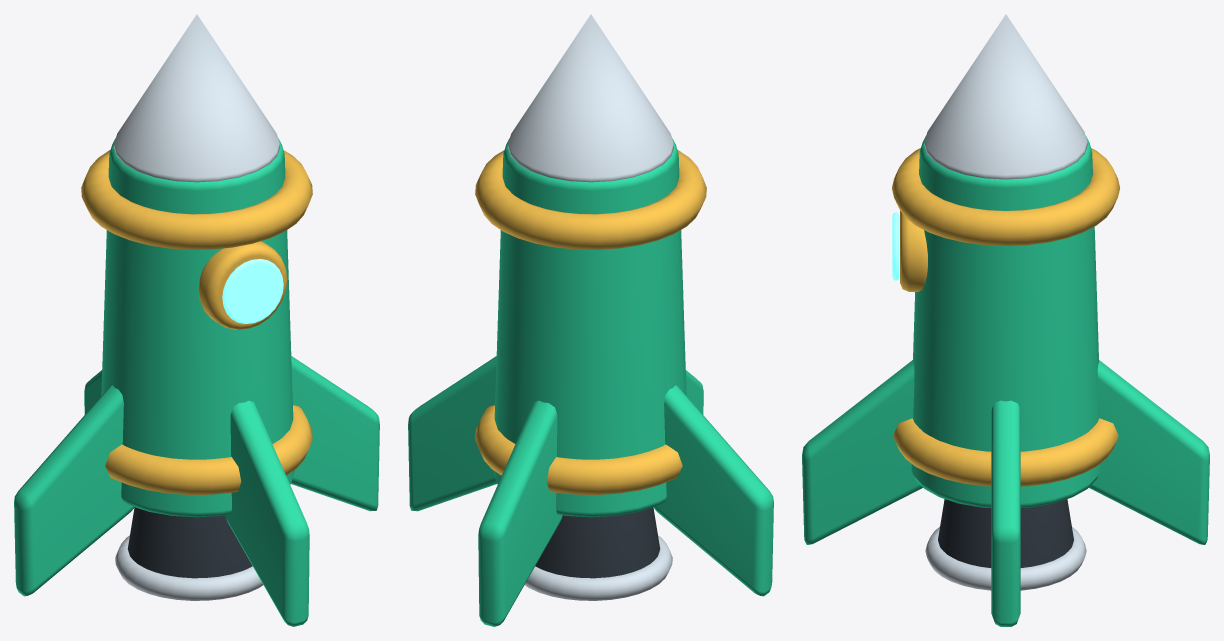
Rendered from rocket.glb.
3 views of the same model, side by side, from view 1: azimuth 30°, elevation 25°; view 2: azimuth 150°, elevation 25°; view 3: azimuth 270°, elevation 25° (orthographic).
Visible parts, largest first — view 1: rocket__body__Mint, rocket__body__Chrome, rocket__body__Gold, rocket__body__Graphite, rocket__body__Cyan_glow; view 2: rocket__body__Mint, rocket__body__Chrome, rocket__body__Gold, rocket__body__Graphite; view 3: rocket__body__Mint, rocket__body__Chrome, rocket__body__Gold, rocket__body__Graphite.
Boxes of the visible parts, box(x1,y1,x2,y2) form: rocket__body__Mint: box(14, 138, 379, 626); rocket__body__Chrome: box(114, 14, 279, 600); rocket__body__Gold: box(81, 150, 312, 494); rocket__body__Graphite: box(127, 507, 252, 578); rocket__body__Cyan_glow: box(222, 259, 283, 323); rocket__body__Mint: box(408, 138, 773, 626); rocket__body__Chrome: box(508, 14, 673, 600); rocket__body__Gold: box(475, 150, 706, 494); rocket__body__Graphite: box(535, 507, 660, 578); rocket__body__Mint: box(802, 136, 1209, 626); rocket__body__Chrome: box(924, 14, 1087, 590); rocket__body__Gold: box(892, 148, 1119, 486); rocket__body__Graphite: box(938, 499, 1073, 567).
Size of the model in its own units: 1.52 by 2.25 by 1.52.
